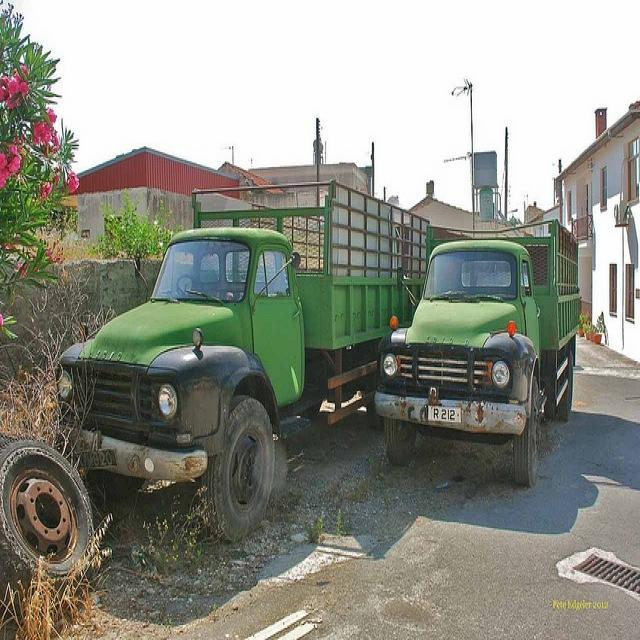truck: (57, 182, 421, 534), (374, 215, 581, 483)
